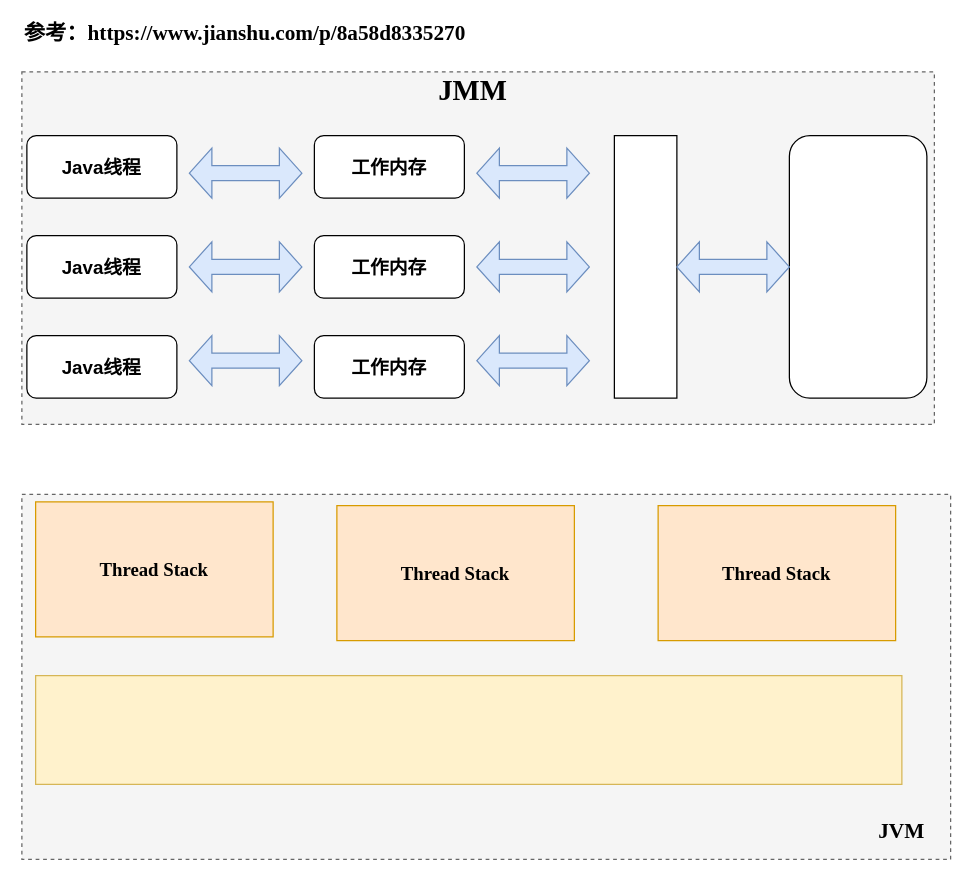
The diagram is 973 pixels wide and 881 high, and some of its shapes have lost their labels. Each missing label, with the centre of its shape:
"Heap" belongs at point (468, 729).
"Load Save 操作" belongs at point (645, 266).
"主内存" belongs at point (857, 266).
